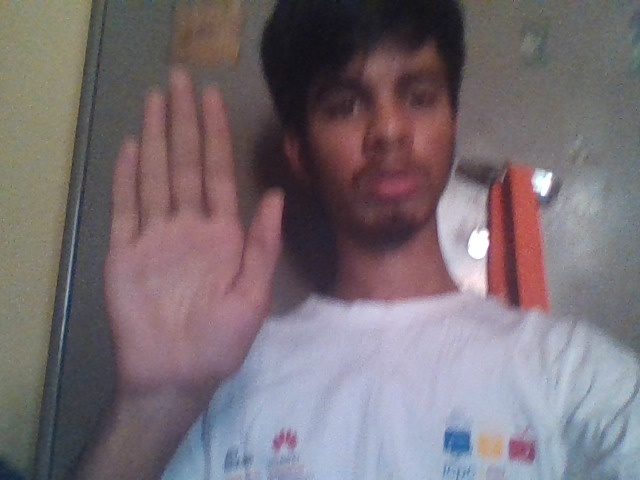Hello: (92, 57, 292, 397)
